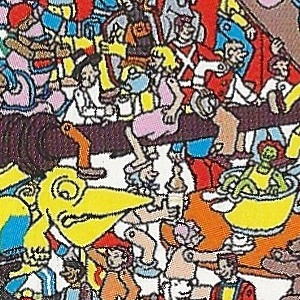Wenda: (78, 132, 108, 168)
